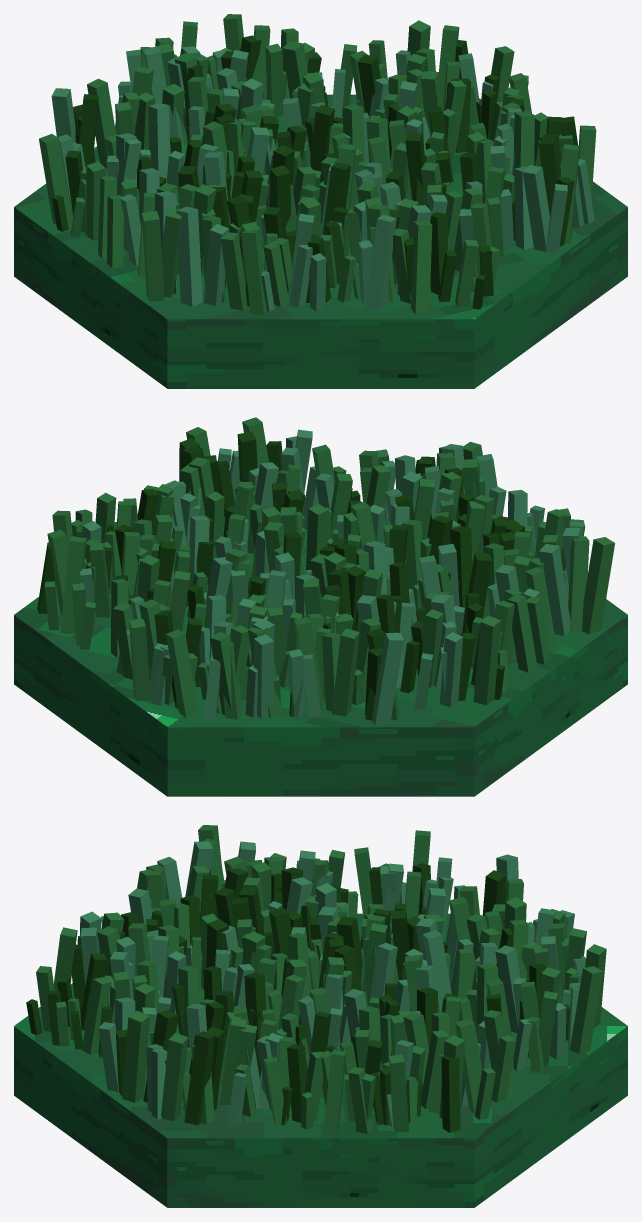
File: hex_grass.gltf
The picture shows the model from 3 angles, top to bottom: view 1: azimuth 30°, elevation 25°; view 2: azimuth 150°, elevation 25°; view 3: azimuth 270°, elevation 25°; orthographic projection.
Parts seen in each view (by area): view 1: grass; view 2: grass; view 3: grass.
Boxes of the visible parts, box(x1,y1,x2,y2) form: grass: box(14, 14, 627, 388); grass: box(14, 417, 627, 796); grass: box(14, 825, 627, 1207).
Size of the model in its own units: 1.75 by 0.5701 by 2.
Materials: 4 (1 with a texture image).
